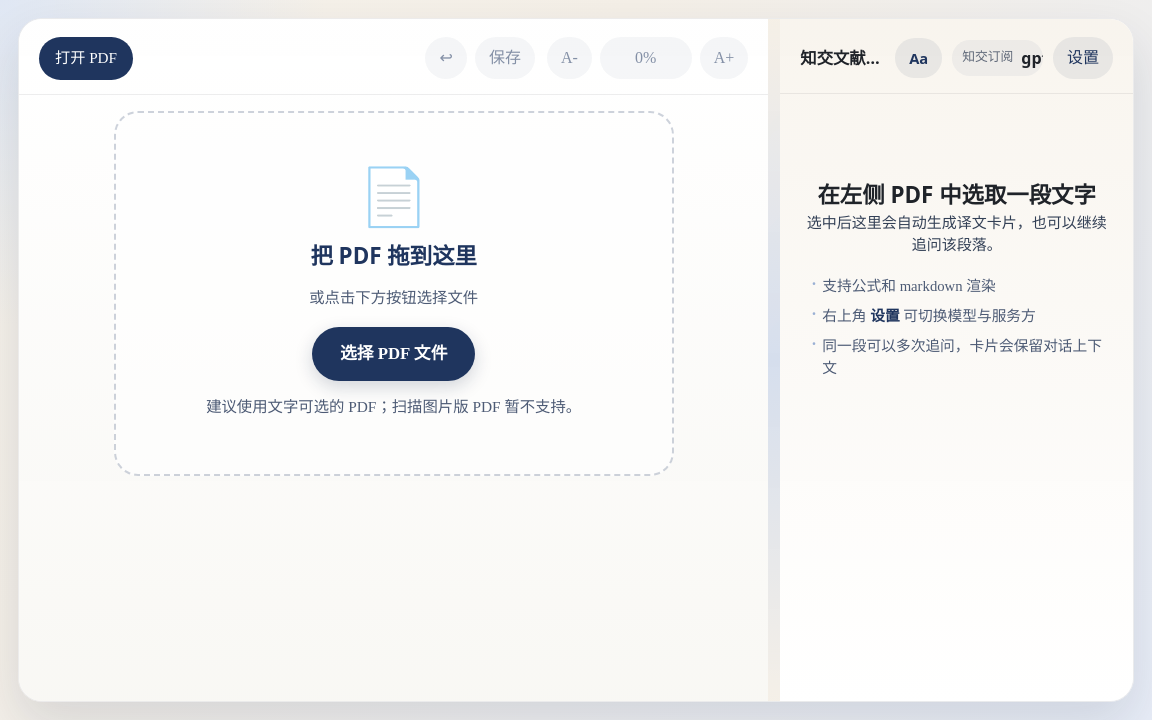
Test: App selection flow › shows SJTU API as a first-class provider option
The image size is (1152, 720).
Click the button "设置" at (1083, 58), box [1053,37,1113,79]
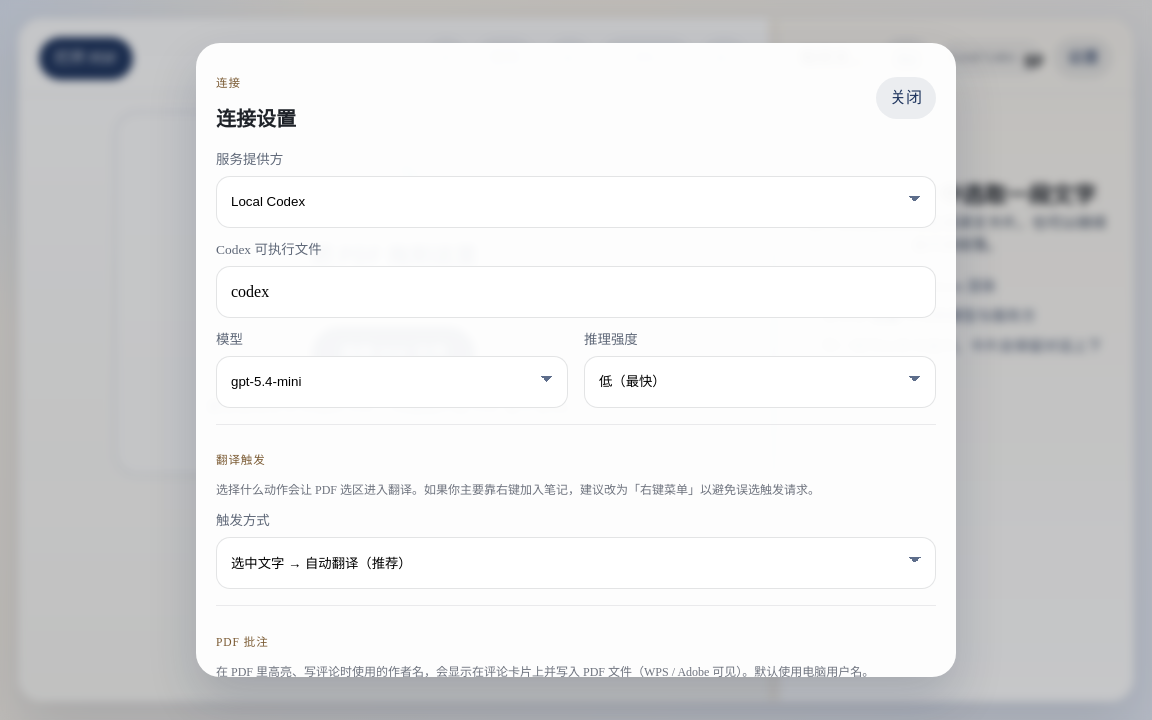
Select "SJTU API" in the dropdown named "Connection provider" at (576, 202), box [216,176,936,228]
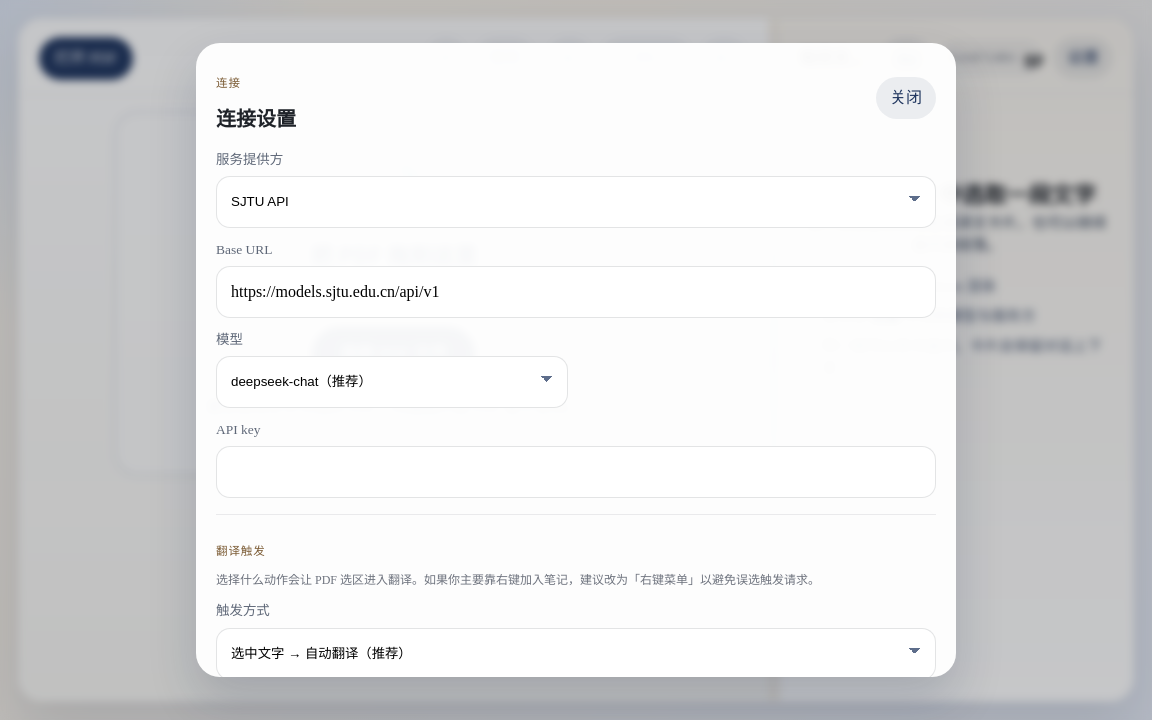
Check: the field showing "https://models.sjtu.edu.cn/api/v1" is shown, box [216,266,936,318]
